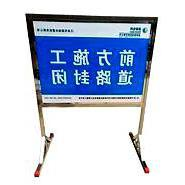sign: (34, 21, 149, 103)
